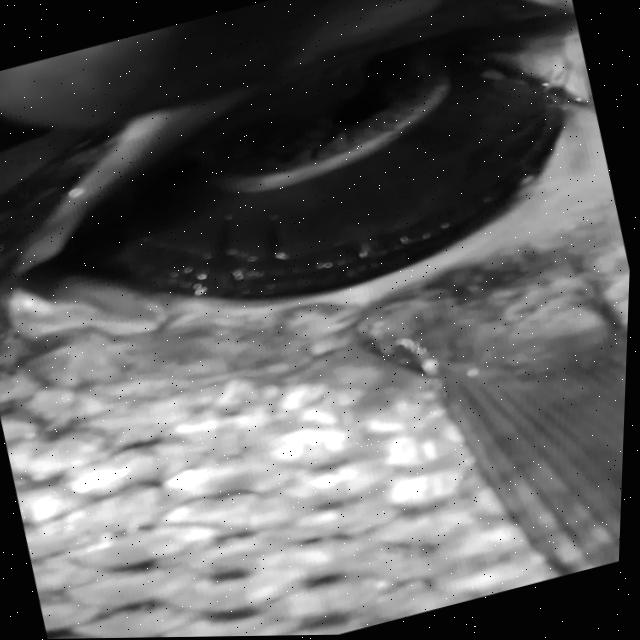Fresh: (0, 11, 614, 382)
